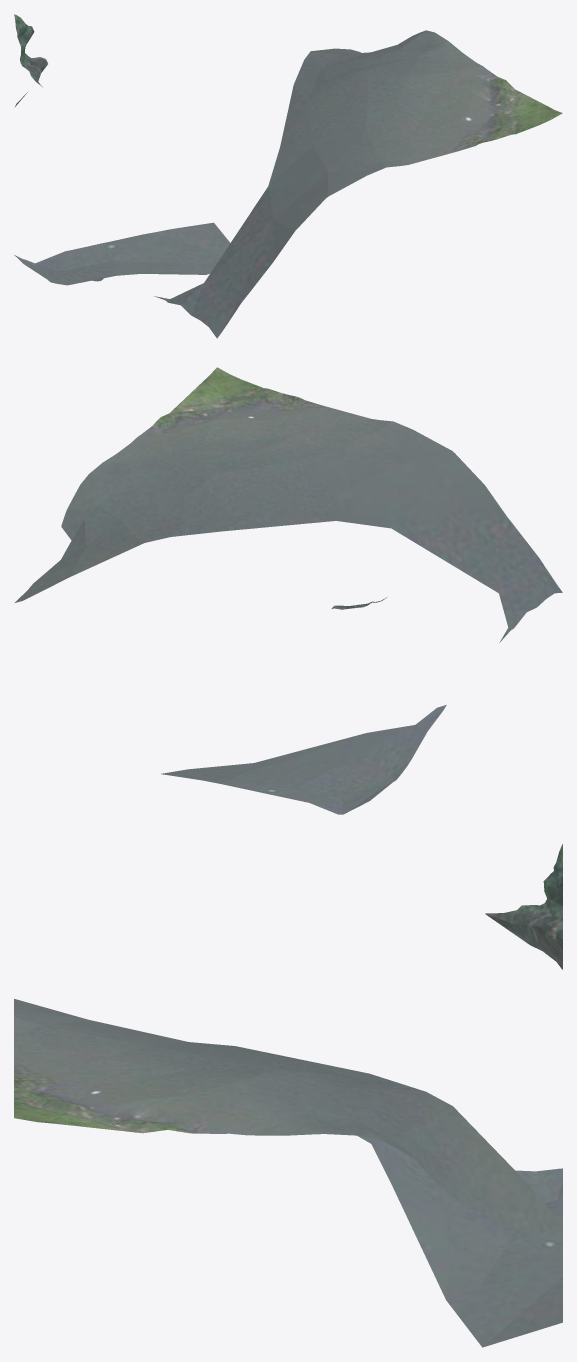
Rendered from Tile_+001_+006_L20_000230.glb.
3 views of the same model, one above another, from view 1: azimuth 30°, elevation 25°; view 2: azimuth 150°, elevation 25°; view 3: azimuth 270°, elevation 25° (orthographic). The views are drawn at different scales.
Parts seen in each view (by area): view 1: rtc; view 2: rtc; view 3: rtc.
Boxes of the visible parts, <box> form: rtc: <box>14,14,562,338</box>; rtc: <box>15,367,562,814</box>; rtc: <box>14,844,562,1347</box>.
Bounding box in the file's own units: 25.25 × 19.17 × 25.69.
Materials: 1 (1 with a texture image).
